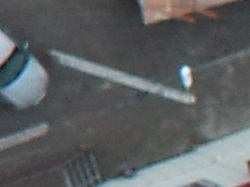opora: (51, 47, 197, 107)
